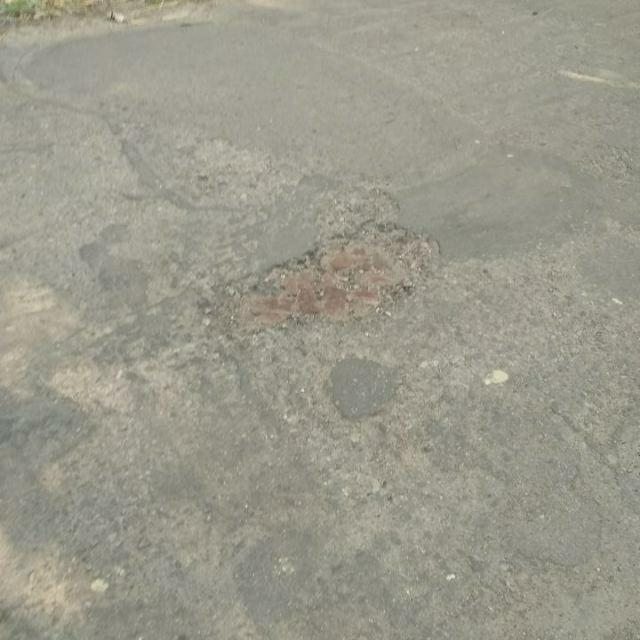Pothole: (214, 218, 444, 342)
